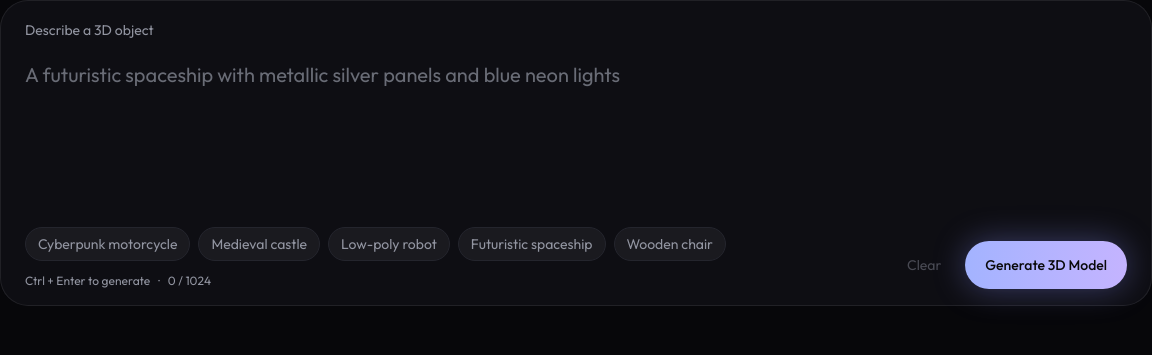
Test: PromptComposer › shows a validation error for a short prompt and does not submit
Type "chair" into the text box labelled "Describe a 3D object" at [576, 131], box [17,49,1135,213]
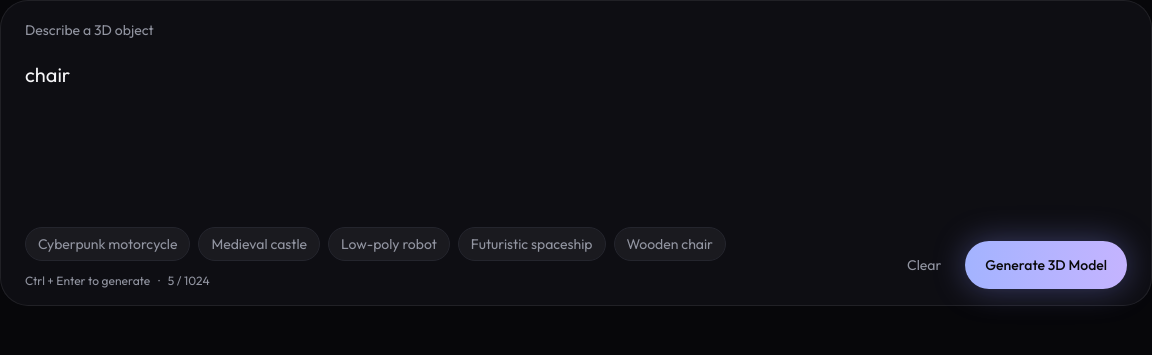
Click the button "Generate 3D Model" at [1046, 265], box [965,241,1127,289]
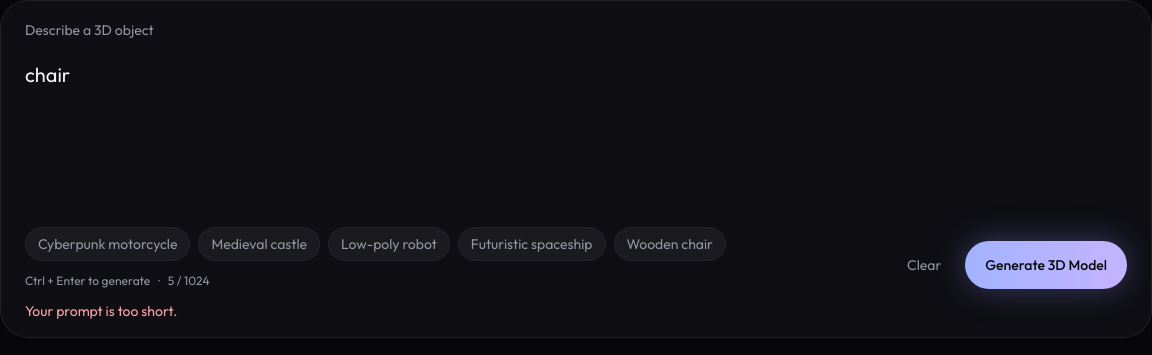
Result: the message reads "Your prompt is too short." at [25,302,177,320]
